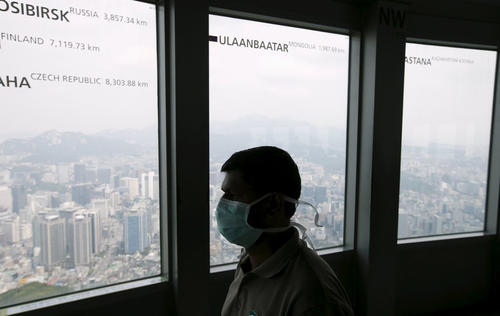yes_mask: (214, 141, 302, 248)
